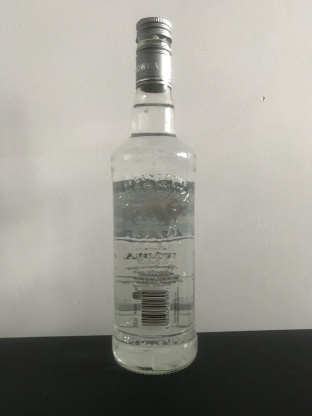nakretka: (134, 15, 173, 93)
